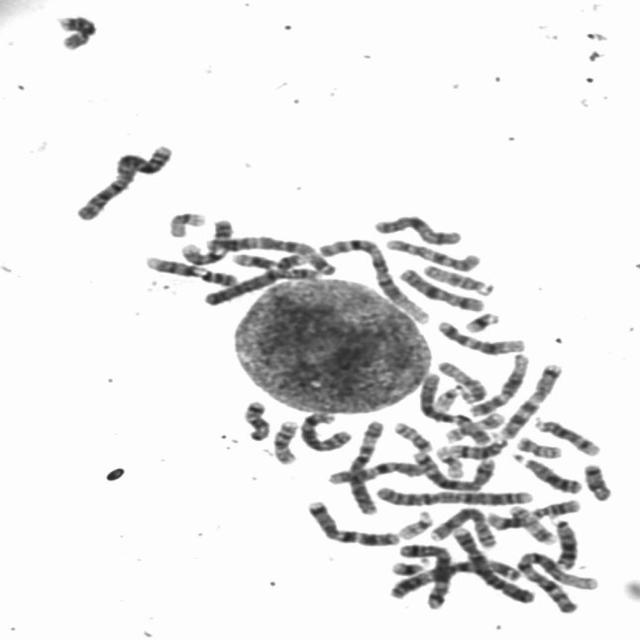A1: (313, 232, 433, 325), (508, 545, 598, 614)
A2: (68, 138, 176, 222), (369, 479, 537, 508)
A3: (383, 553, 525, 601), (200, 229, 339, 276)
B4: (446, 522, 537, 605), (199, 261, 322, 307)
B5: (393, 538, 455, 612), (406, 445, 498, 492)
C10: (379, 234, 484, 272), (320, 456, 427, 486)
C11: (482, 494, 584, 532), (226, 247, 311, 272)
C12: (463, 347, 533, 418), (431, 316, 529, 356)
C6: (414, 368, 495, 444), (342, 414, 387, 516)
C7: (491, 358, 566, 440), (300, 495, 403, 547)
C8: (422, 502, 502, 550), (293, 407, 356, 452)
C9: (138, 251, 240, 288), (174, 213, 236, 266)
D13: (507, 449, 585, 495), (545, 512, 580, 570)
D14: (528, 414, 603, 457), (444, 433, 509, 460)
D15: (417, 258, 497, 296), (431, 355, 489, 404)
E16: (41, 12, 115, 52), (267, 415, 301, 466)
E17: (503, 501, 559, 546), (440, 407, 507, 443)
E18: (237, 395, 273, 442), (578, 458, 615, 502)
F19: (430, 440, 468, 479), (163, 206, 209, 238)
F20: (387, 416, 435, 452), (510, 430, 565, 459)
G21: (459, 306, 503, 334), (384, 554, 430, 578)
G22: (391, 506, 436, 540), (429, 380, 466, 412)
X: (394, 262, 488, 312), (368, 209, 464, 246)
